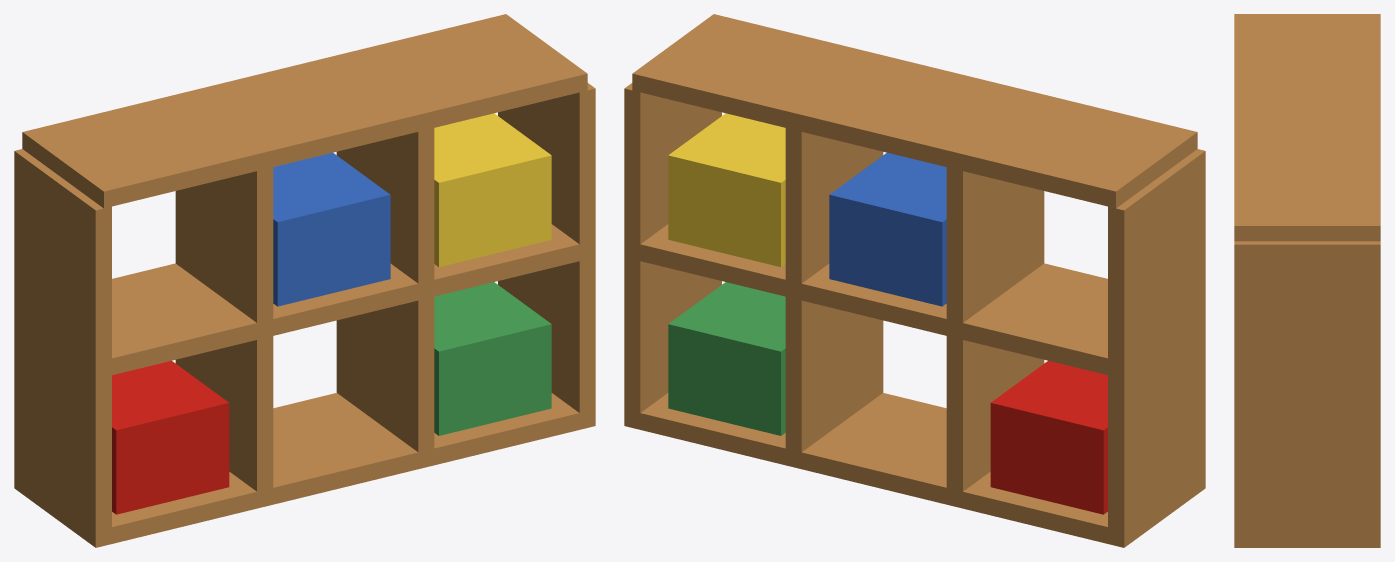
The model's file is cubby_shelf.glb.
3 renders of one model, left to right at view 1: azimuth 30°, elevation 25°; view 2: azimuth 150°, elevation 25°; view 3: azimuth 270°, elevation 25°, orthographic. The views are drawn at different scales.
Visible parts, largest first — view 1: cubby_shelf; view 2: cubby_shelf; view 3: cubby_shelf.
Part boxes in pixels (x1=…): cubby_shelf: x1=14, y1=14, x2=595, y2=547; cubby_shelf: x1=624, y1=14, x2=1205, y2=547; cubby_shelf: x1=1234, y1=14, x2=1380, y2=547.
Size of the model in its own units: 1.24 by 0.84 by 0.35.
